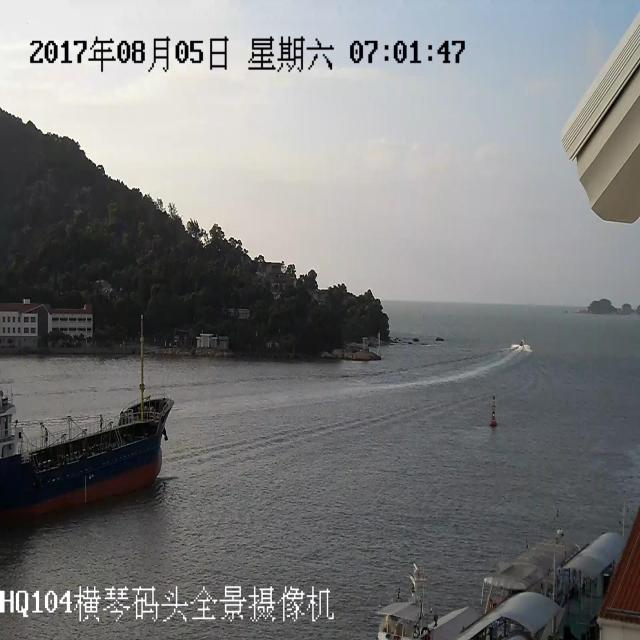fishing boat: (0, 361, 177, 494)
